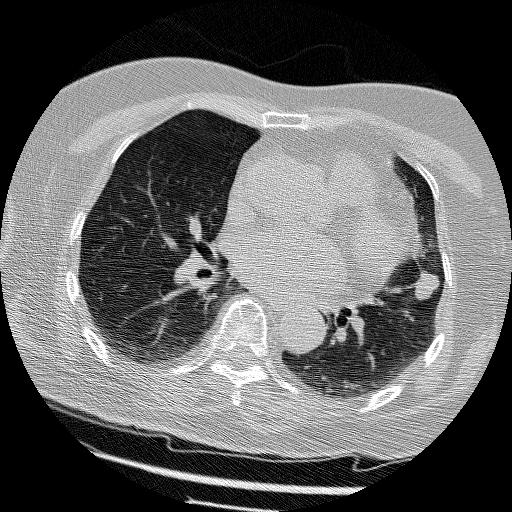nodule: (412, 272, 441, 301)
